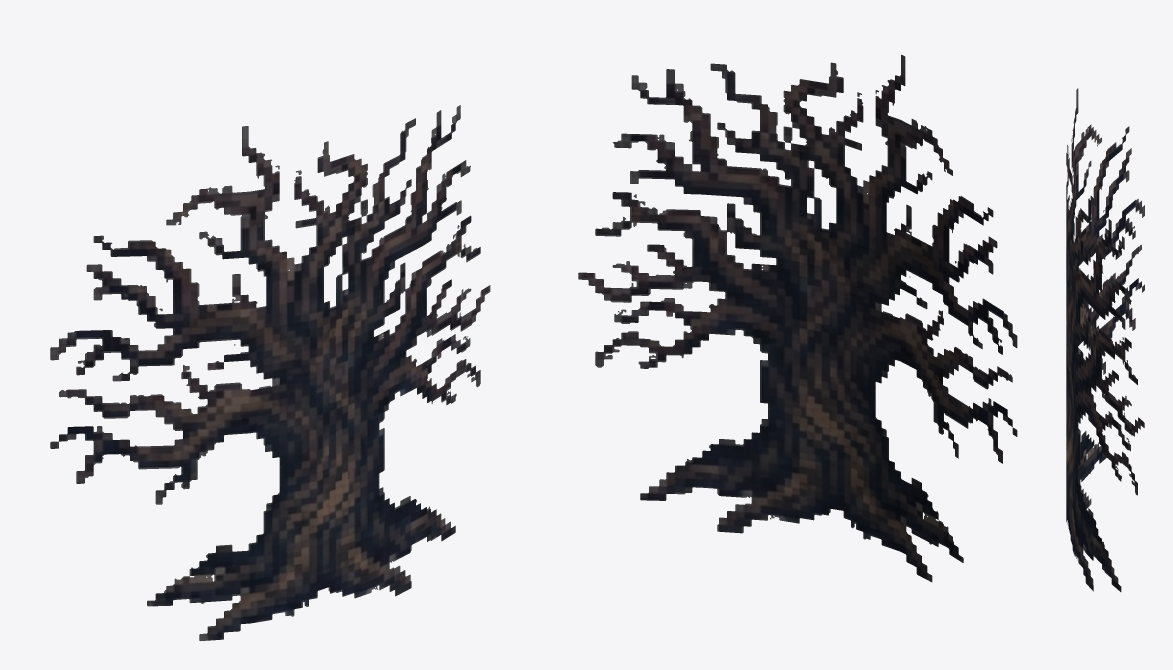
File: tree1.fbx
The picture shows the model from 3 angles, left to right: view 1: azimuth 30°, elevation 25°; view 2: azimuth 150°, elevation 25°; view 3: azimuth 270°, elevation 25°; orthographic projection. The views are drawn at different scales.
Visible parts, largest first — view 1: Plane; view 2: Plane; view 3: Plane.
Boxes of the visible parts, x1,y1,x2,y2 form: Plane: (50, 105, 490, 640); Plane: (578, 54, 1017, 582); Plane: (1066, 88, 1144, 591).
Size of the model in its own units: 200 by 200 by 38.11.
1 material, 1 textured.
